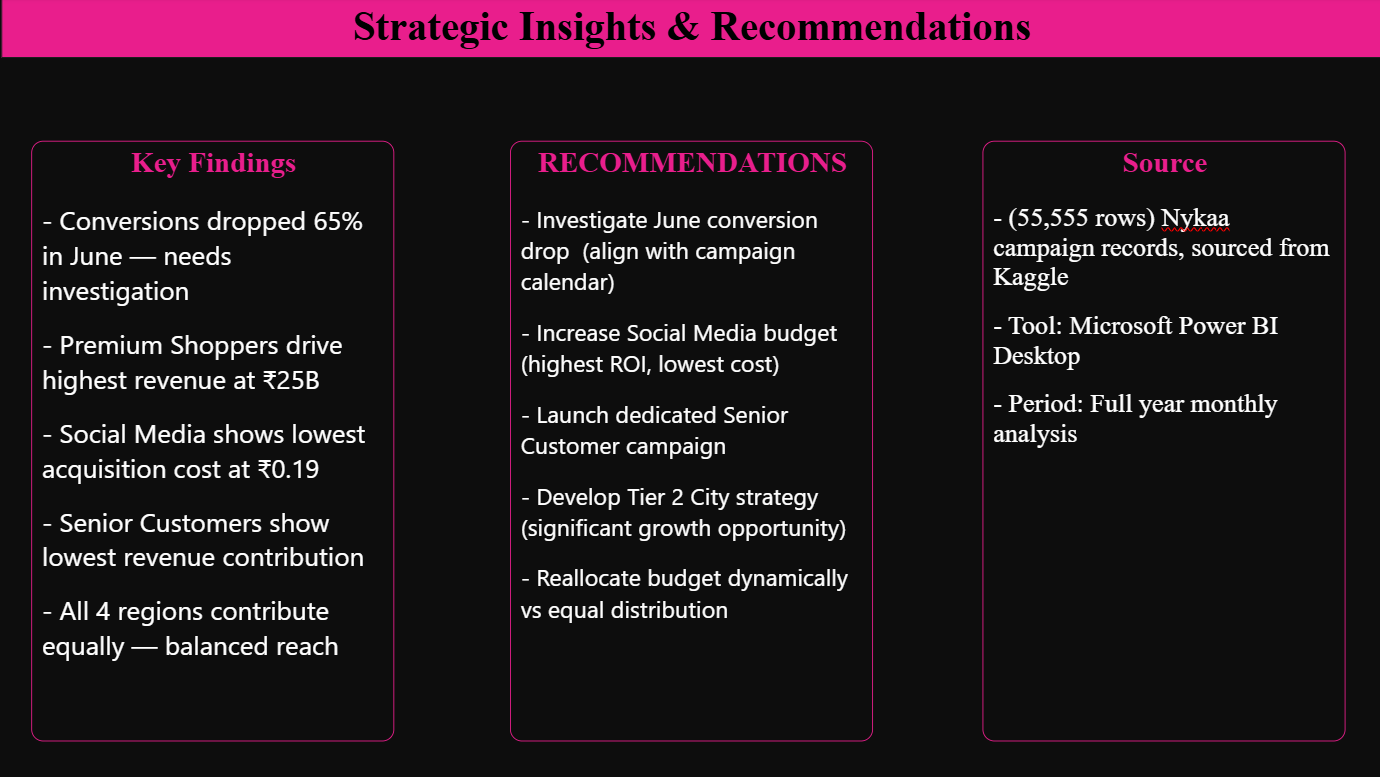

What the dashboard file says about the page in this screenshot:
{"tool":"powerbi","page":{"name":"Insights & Recommendations","canvas":[1280,720],"ordinal":3},"visuals":[{"type":"textbox","title":"Key Findings","box":[33.3,131.8,333.8,551.8],"z":0},{"type":"textbox","box":[5.3,0,1269.4,55.8],"z":1000},{"type":"textbox","title":"RECOMMENDATIONS","box":[473,131.8,333.8,551.8],"z":2000},{"type":"textbox","title":"Source","box":[907.8,131.8,333.8,551.8],"z":3000}]}

Visuals, with their boxes in screenshot pixels (x1, y1, x2, y2), scaled from the page's 1280x720 canvas onto the 1380x777 screenshot:
"Key Findings" textbox: bbox(36, 142, 396, 738)
textbox: bbox(6, 0, 1374, 60)
"RECOMMENDATIONS" textbox: bbox(510, 142, 870, 738)
"Source" textbox: bbox(979, 142, 1339, 738)
